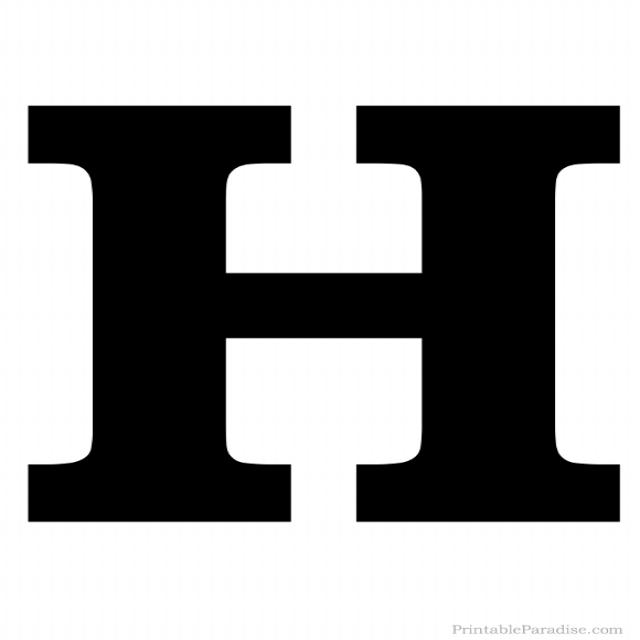H: (25, 42, 638, 594)
